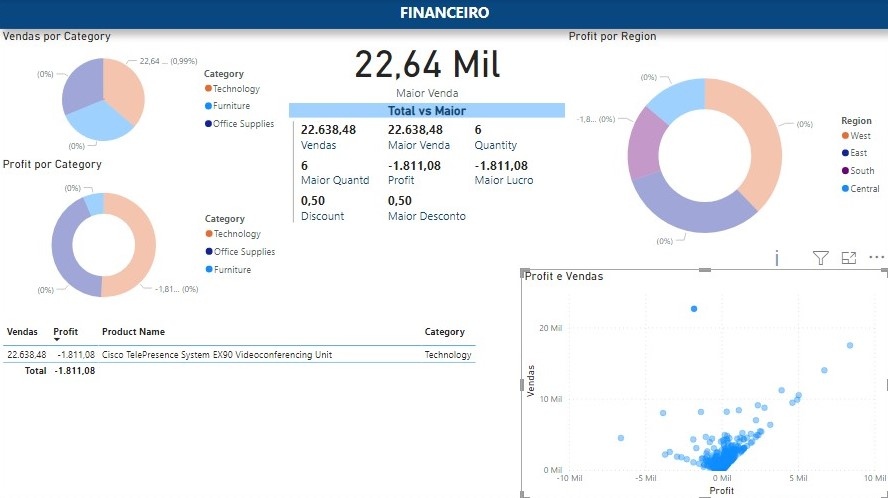

What the dashboard file says about the page in this screenshot:
{"tool":"powerbi","page":{"name":"Financeiro","canvas":[1280,720],"ordinal":5},"visuals":[{"type":"pieChart","fields":{"Y":["Sum(Orders.Vendas)"],"Category":["Orders.Category"]},"box":[0,43.1,409.6,184],"z":0},{"type":"scatterChart","fields":{"Y":["Orders.Vendas"],"X":["Orders.Profit"]},"box":[750.2,388,530.3,332],"z":1000},{"type":"card","fields":{"Values":["Orders.MaioresVendas"]},"box":[416.8,43.1,396.6,106.3],"z":4000},{"type":"multiRowCard","title":"Total vs Maior","fields":{"Values":["Sum(Orders.Vendas)","Orders.Maior Venda","Sum(Orders.Quantity)","Orders.Maior Quantd","Sum(Orders.Profit)","Orders.Maior Lucro","Sum(Orders.Discount)","Orders.Maior Desconto"]},"box":[416.8,149.5,396.6,238.6],"z":5000},{"type":"tableEx","fields":{"Values":["Orders.Vendas","Sum(Orders.Profit)","Orders.Product Name","Orders.Category"]},"box":[0,461.3,750.2,258.7],"z":6000},{"type":"donutChart","fields":{"Category":["Orders.Region"],"Y":["Sum(Orders.Profit)"]},"box":[813.4,43.1,467.1,344.9],"z":7000},{"type":"donutChart","fields":{"Category":["Orders.Category"],"Y":["Sum(Orders.Profit)"]},"box":[0,227.1,411,234.3],"z":8000},{"type":"textbox","box":[0,0,1280.5,43.1],"z":9000}]}

Visuals, with their boxes in screenshot pixels (x1, y1, x2, y2), scaled from the page's 1280x720 canvas onto the 888x498 screenshot:
pieChart - Sum(Orders.Vendas) x Orders.Category: Rect(0, 30, 284, 157)
scatterChart - Orders.Vendas x Orders.Profit: Rect(520, 268, 887, 497)
card - Orders.MaioresVendas: Rect(289, 30, 564, 103)
"Total vs Maior" multiRowCard: Rect(289, 103, 564, 268)
tableEx - Orders.Vendas x Sum(Orders.Profit): Rect(0, 319, 520, 497)
donutChart - Orders.Region x Sum(Orders.Profit): Rect(564, 30, 887, 268)
donutChart - Orders.Category x Sum(Orders.Profit): Rect(0, 157, 285, 319)
textbox: Rect(0, 0, 887, 30)
